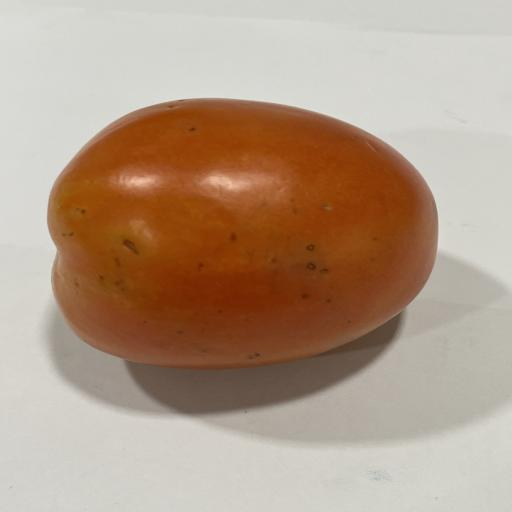unripe: (48, 98, 438, 369), (48, 99, 437, 369)
